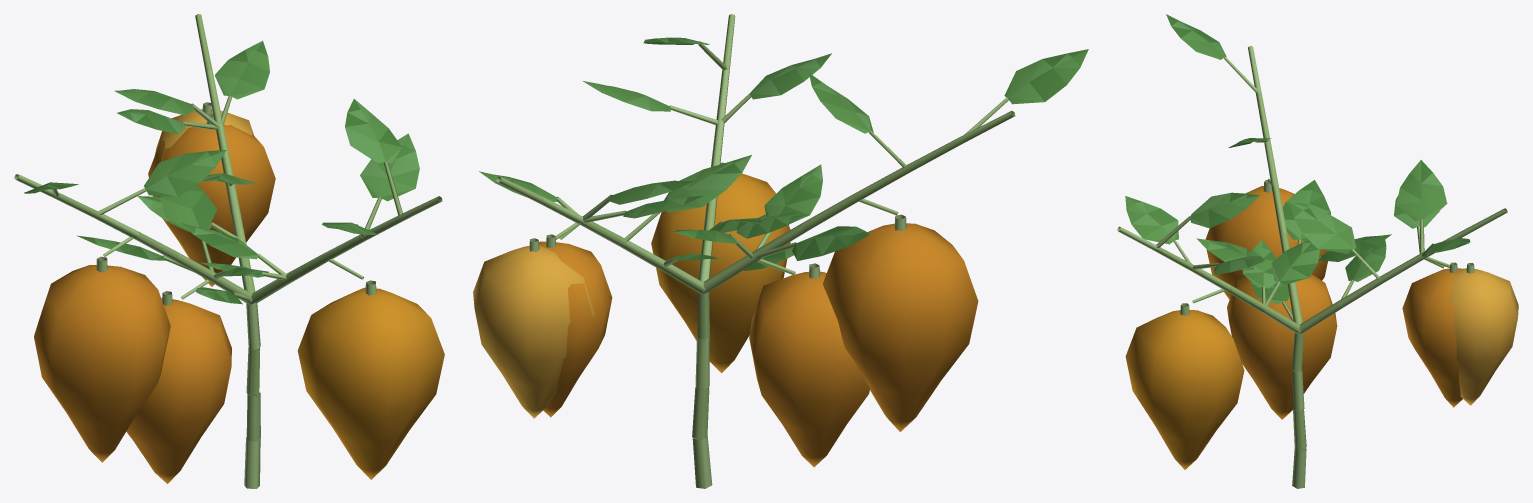
Rendered from poivron_orange_mur.glb.
3 views of the same model, side by side, from view 1: azimuth 30°, elevation 25°; view 2: azimuth 150°, elevation 25°; view 3: azimuth 270°, elevation 25° (orthographic). The views are drawn at different scales.
Visible parts, largest first — view 1: Poivron_Fruits, Poivron_Feuilles, Poivron_Tiges, Poivron_Calices; view 2: Poivron_Fruits, Poivron_Feuilles, Poivron_Tiges; view 3: Poivron_Fruits, Poivron_Feuilles, Poivron_Tiges.
Part boxes in pixels (box(x1,y1,x2,y2)): Poivron_Fruits: box(34, 109, 444, 483); Poivron_Feuilles: box(24, 40, 419, 304); Poivron_Tiges: box(14, 14, 442, 488); Poivron_Calices: box(96, 102, 376, 305); Poivron_Fruits: box(473, 173, 978, 467); Poivron_Feuilles: box(479, 37, 1088, 270); Poivron_Tiges: box(496, 14, 1015, 488); Poivron_Fruits: box(1125, 186, 1518, 469); Poivron_Feuilles: box(1125, 14, 1470, 304); Poivron_Tiges: box(1117, 46, 1507, 488).
Bounding box in the file's own units: 0.5886 × 0.5657 × 0.5786.
